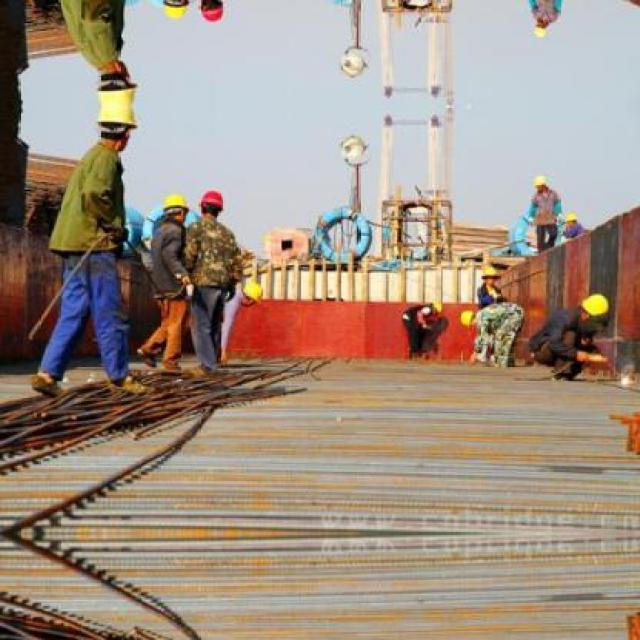helmet: (93, 107, 138, 152), (93, 61, 138, 106), (156, 190, 192, 224), (578, 290, 610, 322), (237, 279, 266, 309), (198, 187, 224, 219), (156, 0, 192, 23), (197, 0, 225, 26), (458, 309, 480, 331), (482, 261, 500, 283), (560, 210, 578, 230), (532, 173, 548, 192), (532, 20, 548, 39), (432, 297, 446, 315)
